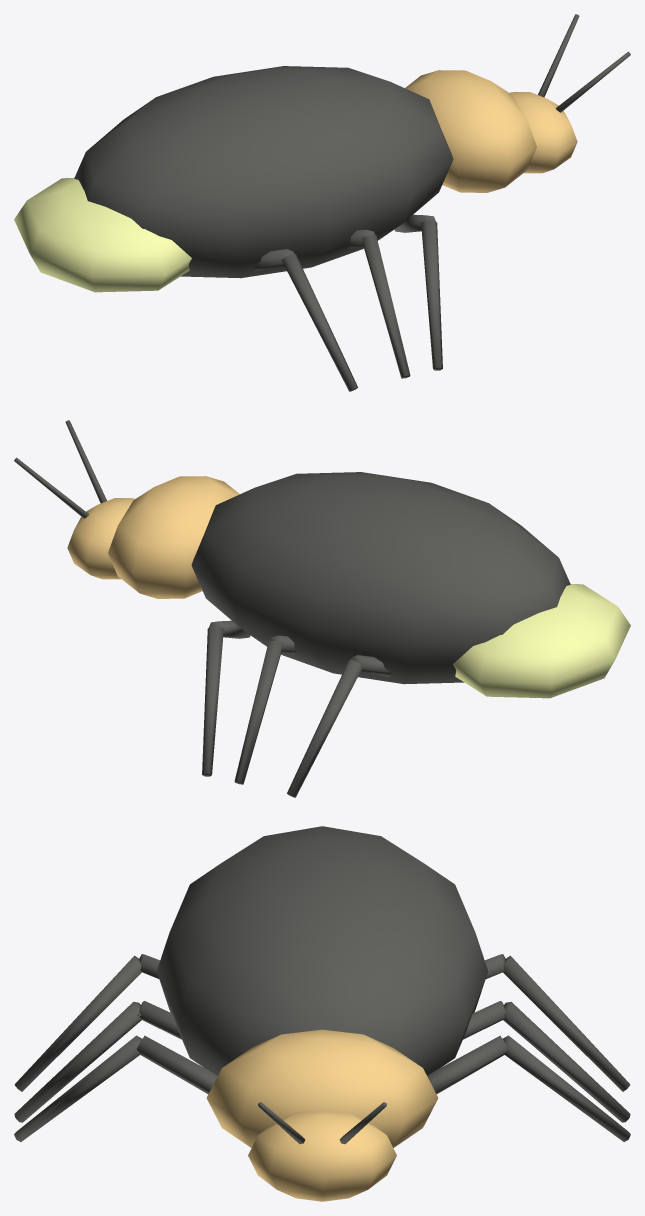
Rendered from yellow-edged-firefly.glb.
The picture shows the model from 3 angles, top to bottom: view 1: azimuth 30°, elevation 25°; view 2: azimuth 150°, elevation 25°; view 3: azimuth 270°, elevation 25°; orthographic projection. The views are drawn at different scales.
Visible parts, largest first — view 1: e; view 2: e; view 3: e.
Boxes of the visible parts, box(x1,y1,x2,y2) form: e: box(14, 14, 630, 391); e: box(14, 420, 630, 797); e: box(14, 826, 630, 1201).
Size of the model in its own units: 0.2867 by 0.0965 by 0.2233.
